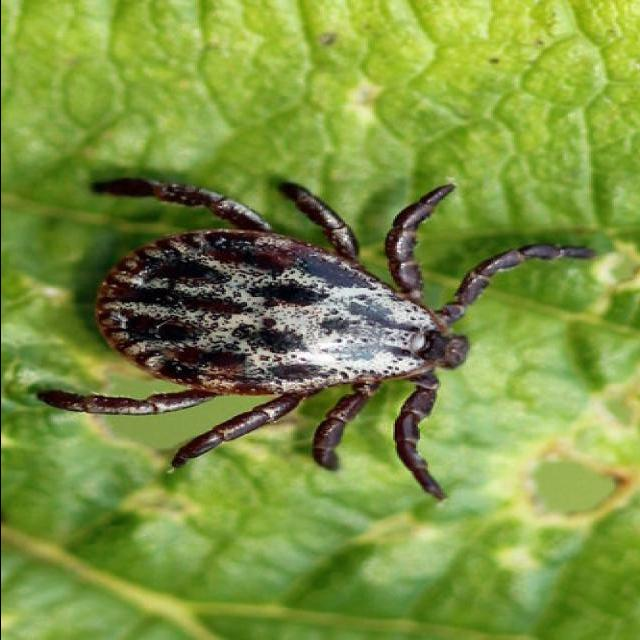Dermacentor Reticulatus-M: (33, 175, 592, 502)
